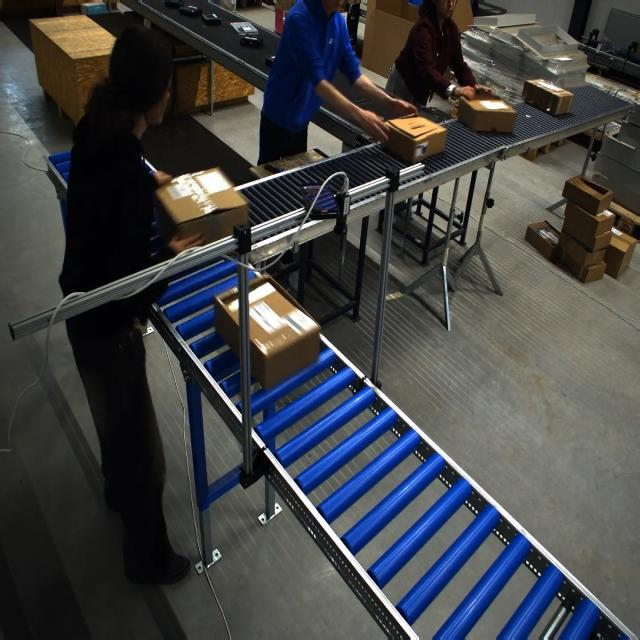box: (214, 271, 318, 391), (155, 167, 247, 250), (382, 116, 442, 163), (456, 92, 516, 133)
product: (229, 21, 259, 36), (179, 4, 202, 17), (240, 35, 263, 48), (201, 13, 221, 25), (163, 0, 182, 8), (265, 54, 275, 68)
